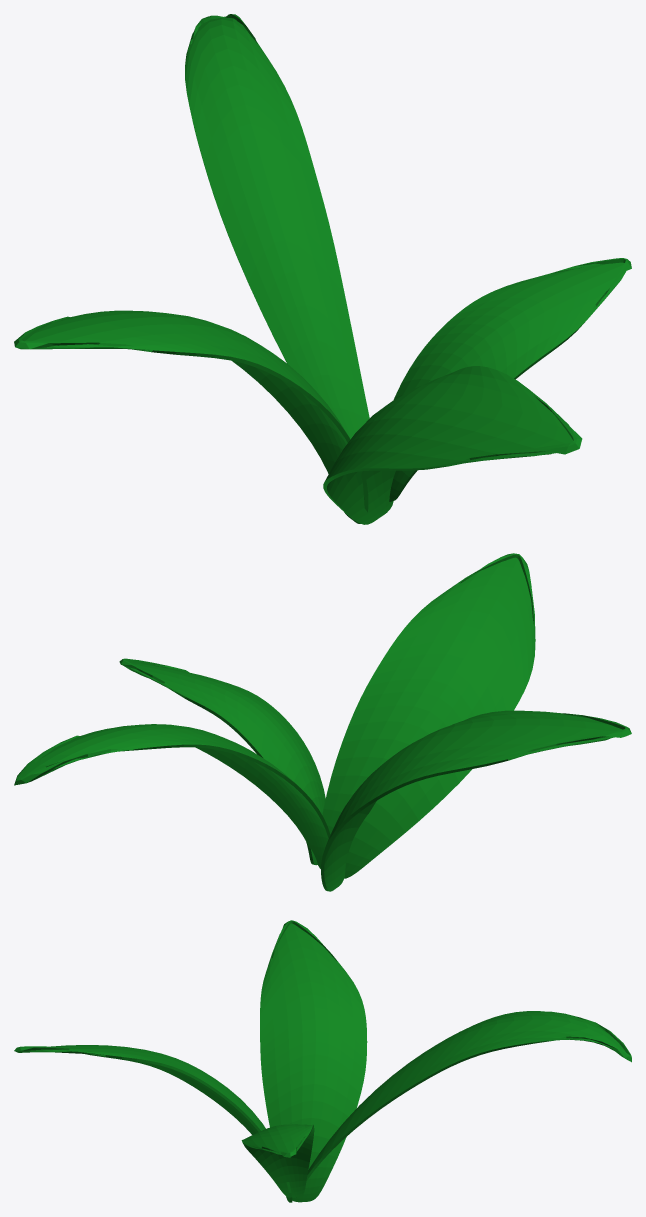
File: Bush_Two.fbx
3 views of the same model, one above another, from view 1: azimuth 30°, elevation 25°; view 2: azimuth 150°, elevation 25°; view 3: azimuth 270°, elevation 25° (orthographic). The views are drawn at different scales.
Parts seen in each view (by area): view 1: Plane.003; view 2: Plane.003; view 3: Plane.003.
Part boxes in pixels (x1,y1,x2,y2): Plane.003: [14, 14, 631, 524]; Plane.003: [14, 553, 631, 891]; Plane.003: [14, 920, 631, 1202].
Bounding box in the file's own units: 509 × 249 × 686.
